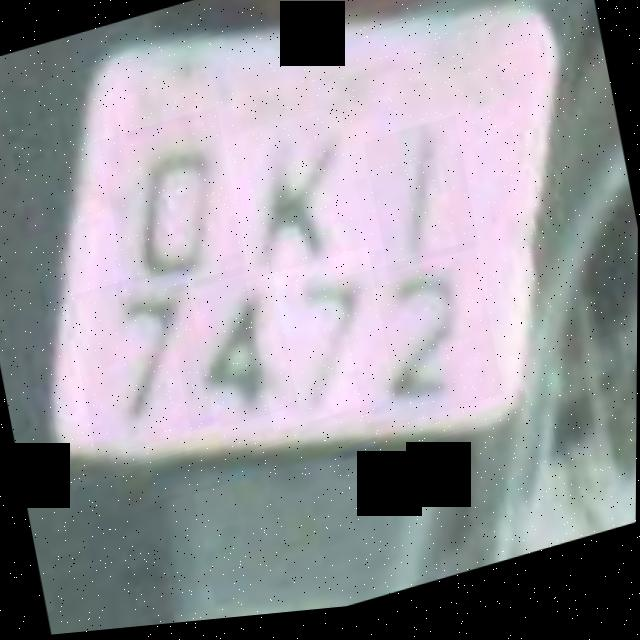2: (336, 247, 505, 444)
4: (164, 262, 300, 443)
7: (65, 264, 216, 463), (245, 251, 398, 440)
B: (363, 123, 481, 283)
K: (218, 108, 372, 305)
O: (98, 108, 250, 312)
